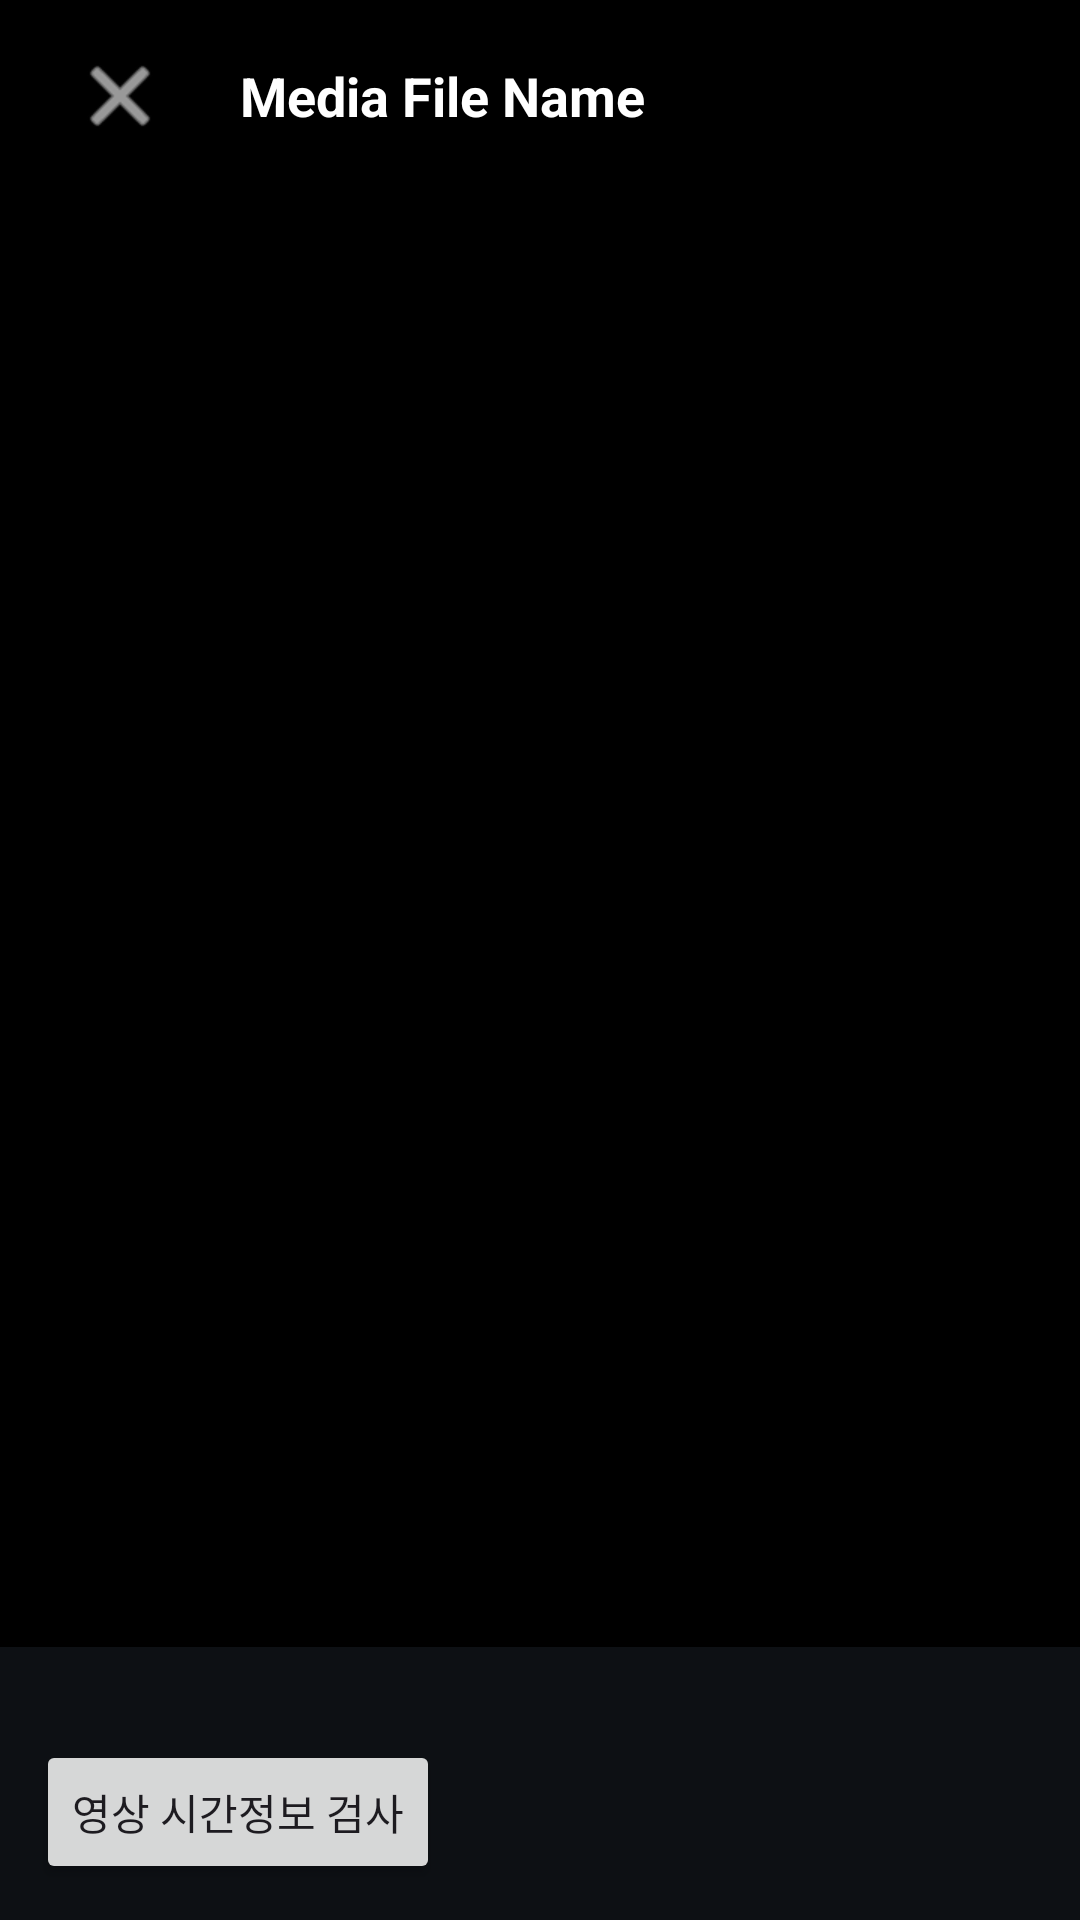

Icon click points for this 1080*1920 phone screenshot, format (x,y):
영상 재생 닫기: (120,96)
